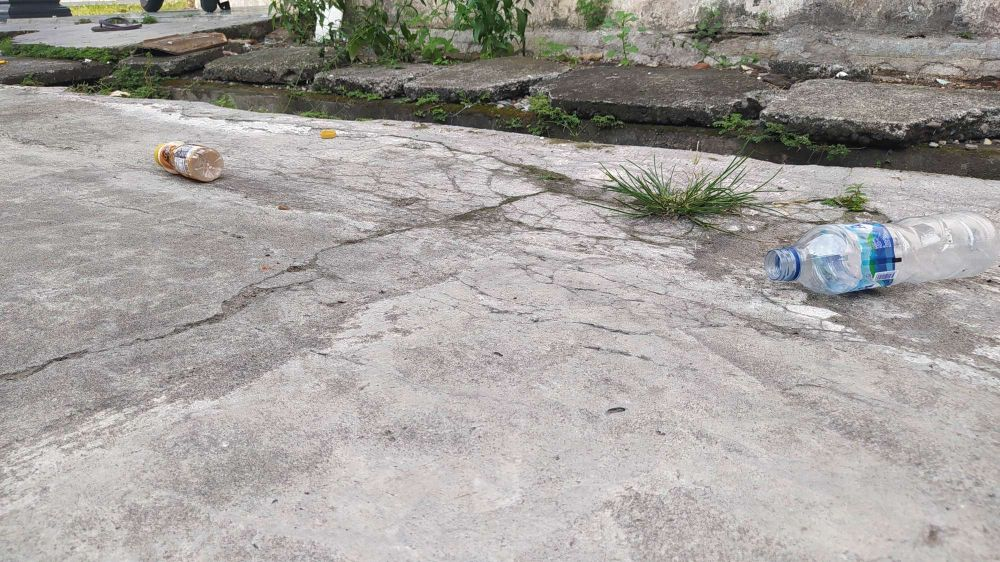botol: (746, 200, 1000, 301), (150, 125, 241, 187)
